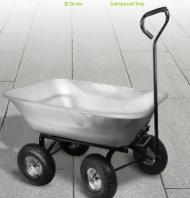BROUETTE: (1, 5, 190, 194)
